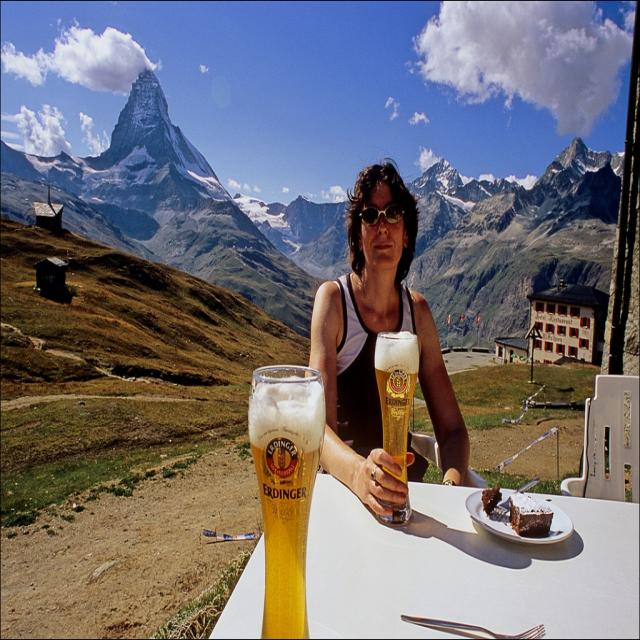erdinger: (258, 423, 312, 505), (385, 368, 414, 408)
